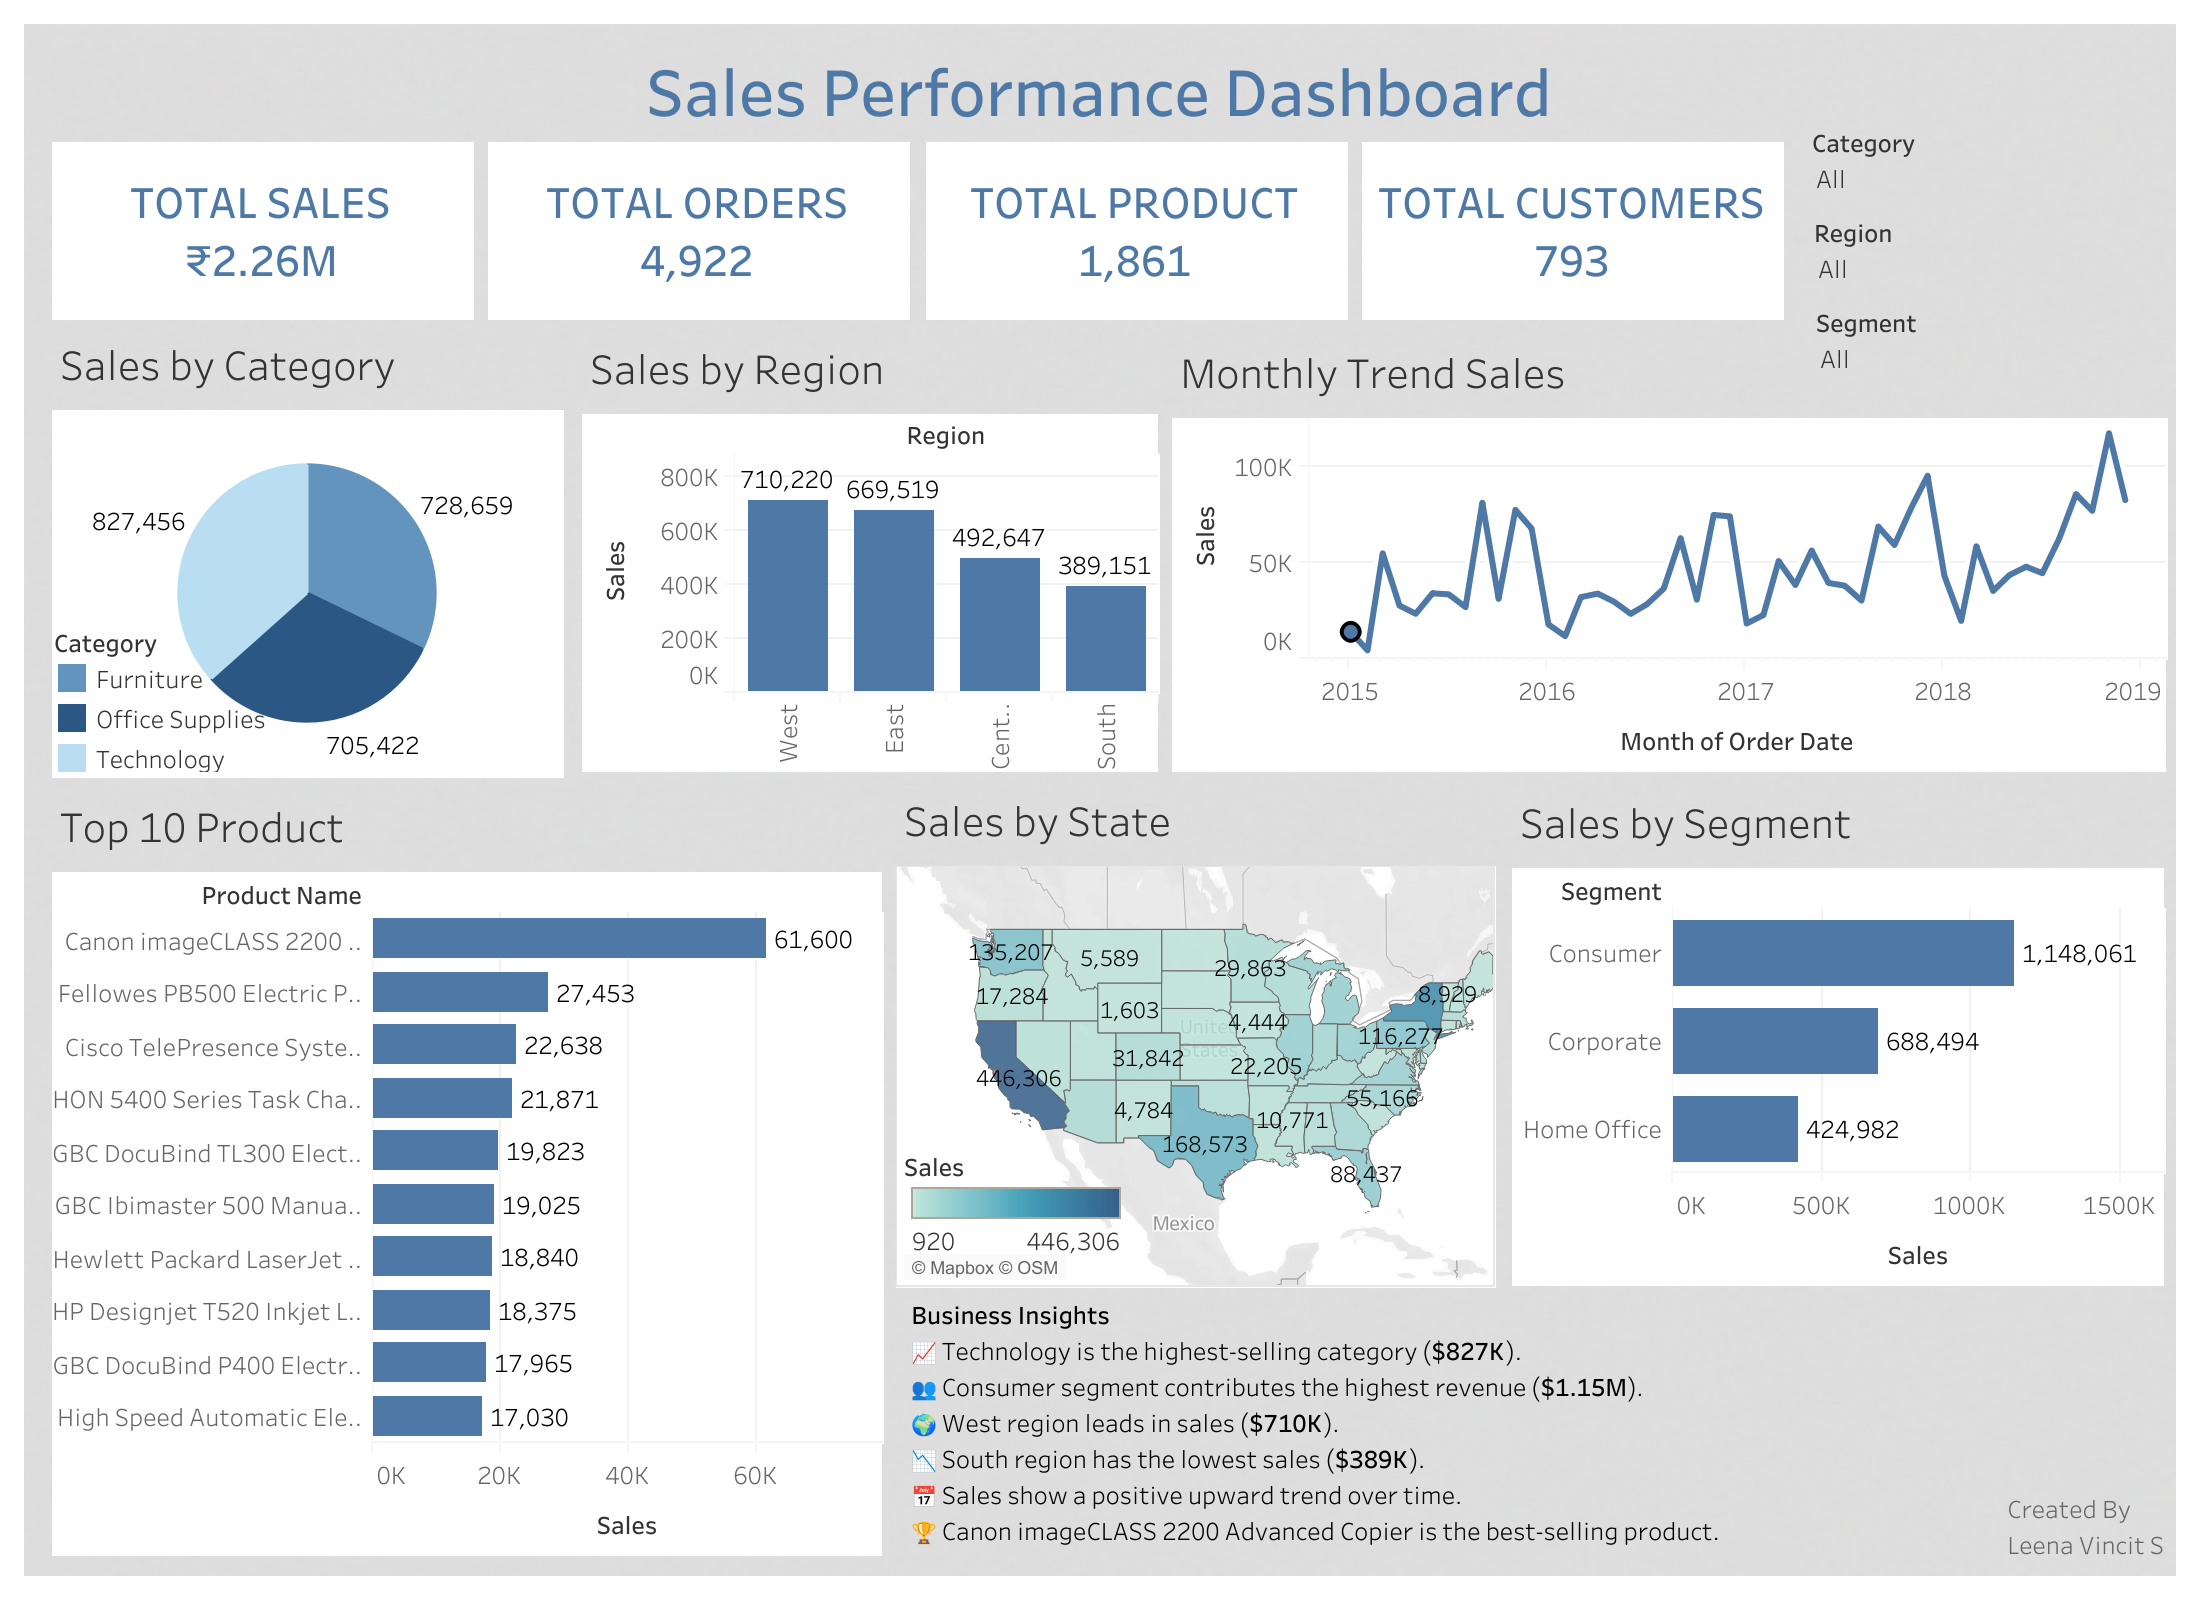

What the dashboard file says about the page in this screenshot:
{"tool":"tableau","page":{"name":"Dashboard 1","canvas":[1100,800],"ordinal":0},"visuals":[{"type":"image","param":"Image/ChatGPT Image Jul 18, 2026 at 01_02_34 PM.png","box":[8,8,1084,784]},{"type":"text","box":[19,18,1061,53]},{"type":"filter","title":"Sales by Category","param":"[federated.0dwdel31otc485188i29f1dohqba].[none:Category:nk]","box":[906,61,160,50]},{"type":"worksheet","title":"kpi total sales","mark":"Automatic","box":[22,67,218.3,96]},{"type":"worksheet","title":"KPI total order","mark":"Automatic","box":[240.3,67,218.3,96]},{"type":"worksheet","title":"kpi total product","mark":"Automatic","box":[458.5,67,218.3,96]},{"type":"worksheet","title":"KPI TOTAL CUSTOMER","mark":"Automatic","box":[676.8,67,218.3,96]},{"type":"filter","title":"Sales by Region","param":"[federated.0dwdel31otc485188i29f1dohqba].[none:Region:nk]","box":[907,106,160,51]},{"type":"filter","title":"Sales by Segment","param":"[federated.0dwdel31otc485188i29f1dohqba].[none:Segment:nk]","box":[908,151,160,48]},{"type":"worksheet","title":"Sales by Category","mark":"Pie","box":[26,162,255,226]},{"type":"worksheet","title":"Sales by Region","mark":"Automatic","rows":["Sales"],"cols":["Region"],"box":[291,164,288,222]},{"type":"worksheet","title":"Monthly Trend Sales","mark":"Automatic","rows":["Sales"],"cols":["Order_Date"],"box":[586,166,497,220]},{"type":"legend","title":"Sales by Category","param":"[federated.0dwdel31otc485188i29f1dohqba].[none:Category:nk]","box":[26,310,115,76]},{"type":"worksheet","title":"Sales by State","mark":"Multipolygon","box":[448,390,300,254]},{"type":"worksheet","title":"Sales by Segment","mark":"Automatic","rows":["Segment"],"cols":["Sales"],"box":[756,391,326,252]},{"type":"worksheet","title":"Top 10 Product","mark":"Automatic","rows":["Product_Name"],"cols":["Sales"],"box":[26,393,415,385]},{"type":"legend","title":"Sales by State","param":"[federated.0dwdel31otc485188i29f1dohqba].[sum:Sales:qk]","box":[452,570,113,59]},{"type":"text","box":[453,630,419,162]},{"type":"text","box":[863,647,100,30]},{"type":"text","box":[1001,745,100,36]}]}

Visuals, with their boxes in screenshot pixels (x1, y1, x2, y2), scaled from the page's 1100x800 canvas onto the 2198x1598 screenshot:
image: (16,16,2182,1582)
text: (38,36,2158,142)
"Sales by Category" filter: (1810,122,2130,222)
"kpi total sales" worksheet: (44,134,480,326)
"KPI total order" worksheet: (480,134,916,326)
"kpi total product" worksheet: (916,134,1352,326)
"KPI TOTAL CUSTOMER" worksheet: (1352,134,1789,326)
"Sales by Region" filter: (1812,212,2132,314)
"Sales by Segment" filter: (1814,302,2134,398)
"Sales by Category" worksheet (Pie marks): (52,324,561,775)
"Sales by Region" worksheet: (581,328,1157,771)
"Monthly Trend Sales" worksheet: (1171,332,2164,771)
"Sales by Category" legend: (52,619,282,771)
"Sales by State" worksheet (Multipolygon marks): (895,779,1495,1286)
"Sales by Segment" worksheet: (1511,781,2162,1284)
"Top 10 Product" worksheet: (52,785,881,1554)
"Sales by State" legend: (903,1139,1129,1256)
text: (905,1258,1742,1582)
text: (1724,1292,1924,1352)
text: (2000,1488,2197,1560)
